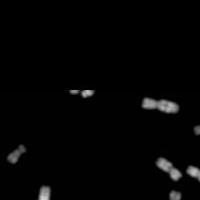chromosome: (156, 154, 181, 181), (142, 97, 179, 114), (8, 144, 27, 163), (187, 166, 200, 190), (37, 185, 50, 200), (168, 191, 181, 200), (193, 121, 200, 136)
